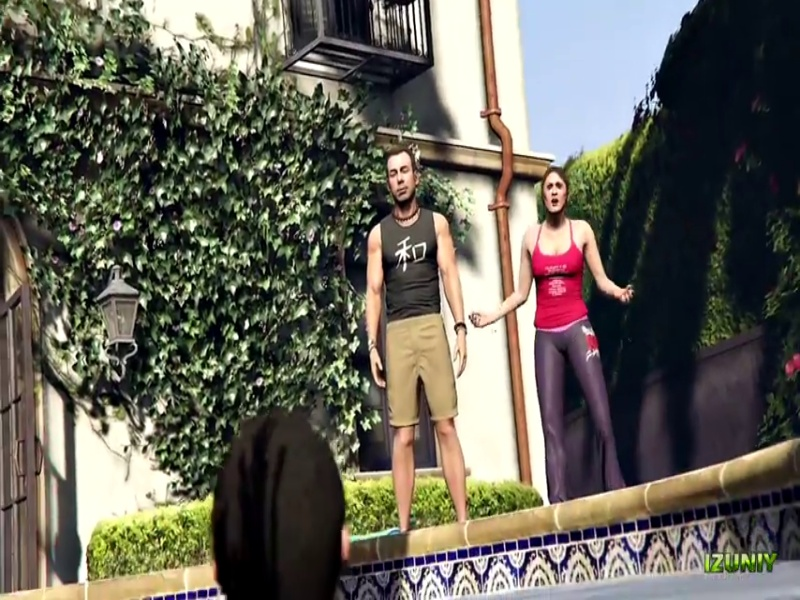human: (525, 137, 640, 497)
